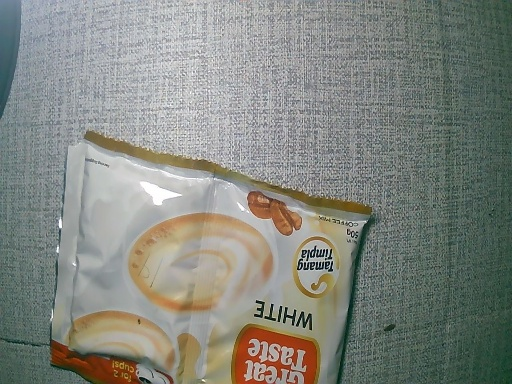plastic: (52, 128, 375, 384)
